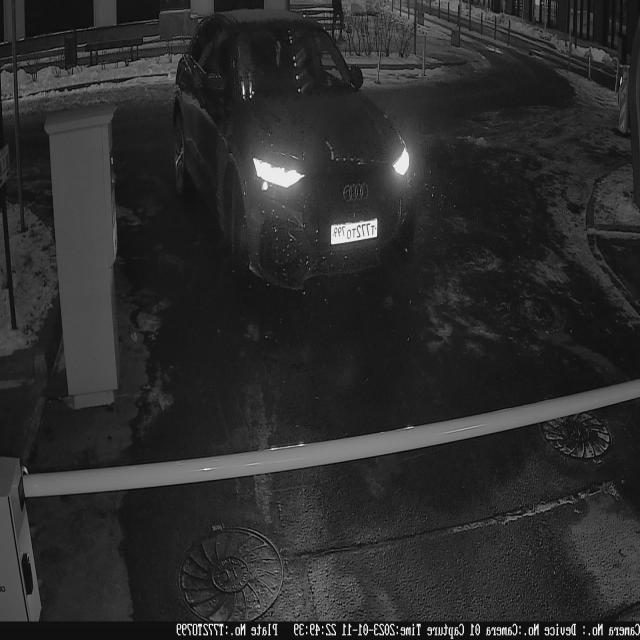car-plate-numbers: (330, 213, 381, 253)
